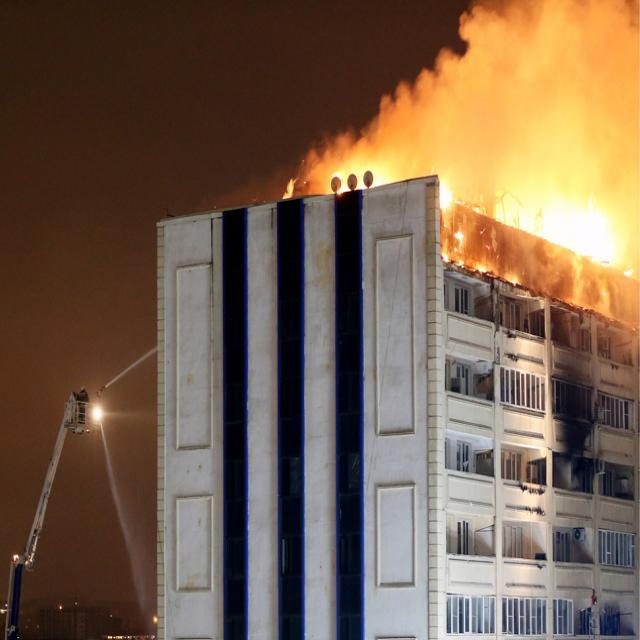Fire: (546, 190, 622, 264)
Smoke: (313, 2, 640, 189)
